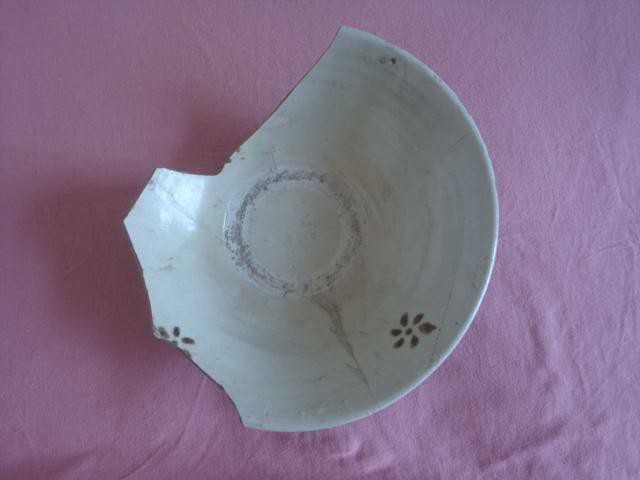ceramics: (121, 22, 506, 436)
